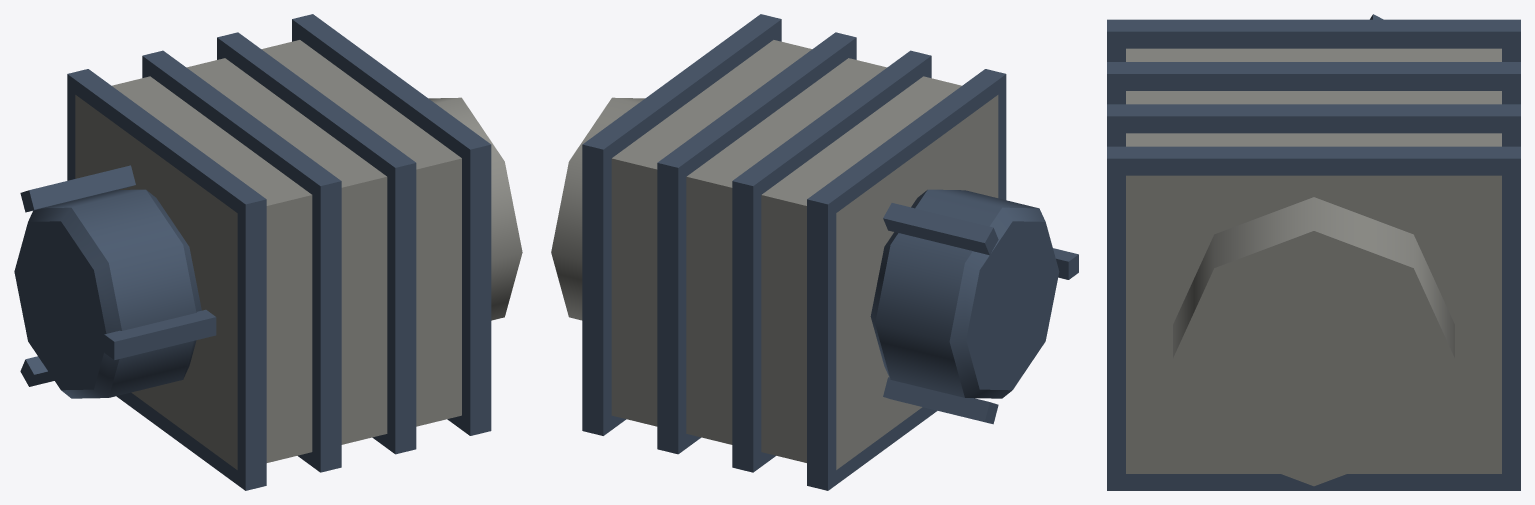
File: ko300_pump.obj
3 renders of one model, left to right at view 1: azimuth 30°, elevation 25°; view 2: azimuth 150°, elevation 25°; view 3: azimuth 270°, elevation 25°, orthographic. The views are drawn at different scales.
Visible parts, largest first — view 1: ko300_pump; view 2: ko300_pump; view 3: ko300_pump.
Boxes of the visible parts, x1,y1,x2,y2 form: ko300_pump: [14, 14, 522, 490]; ko300_pump: [551, 14, 1078, 490]; ko300_pump: [1107, 14, 1520, 490].
Bounding box in the file's own units: 1.16 × 0.78 × 0.88.
